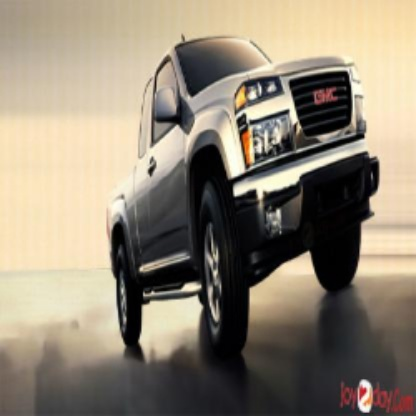Vehicle: (105, 33, 382, 363)
